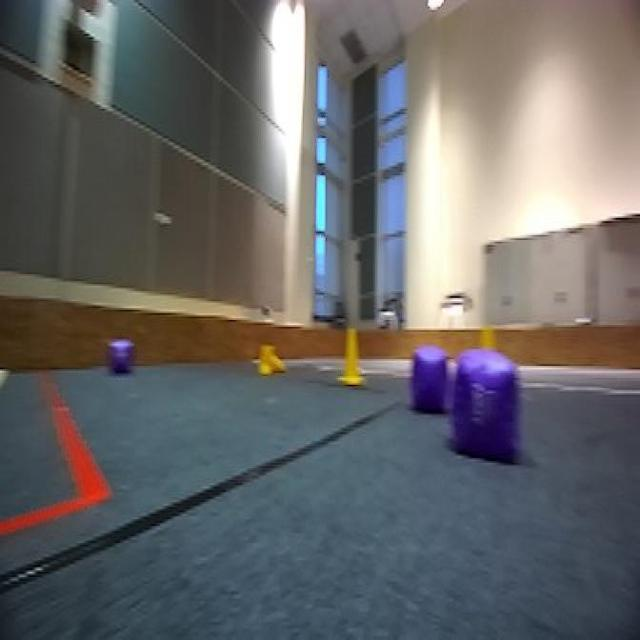frc_cone: (337, 324, 369, 386), (253, 340, 287, 378)
frc_cube: (448, 354, 521, 458), (412, 359, 447, 409), (105, 337, 132, 381)
